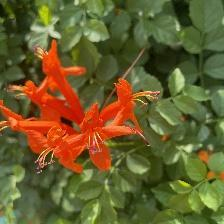honeysuckle: (75, 105, 135, 169)
